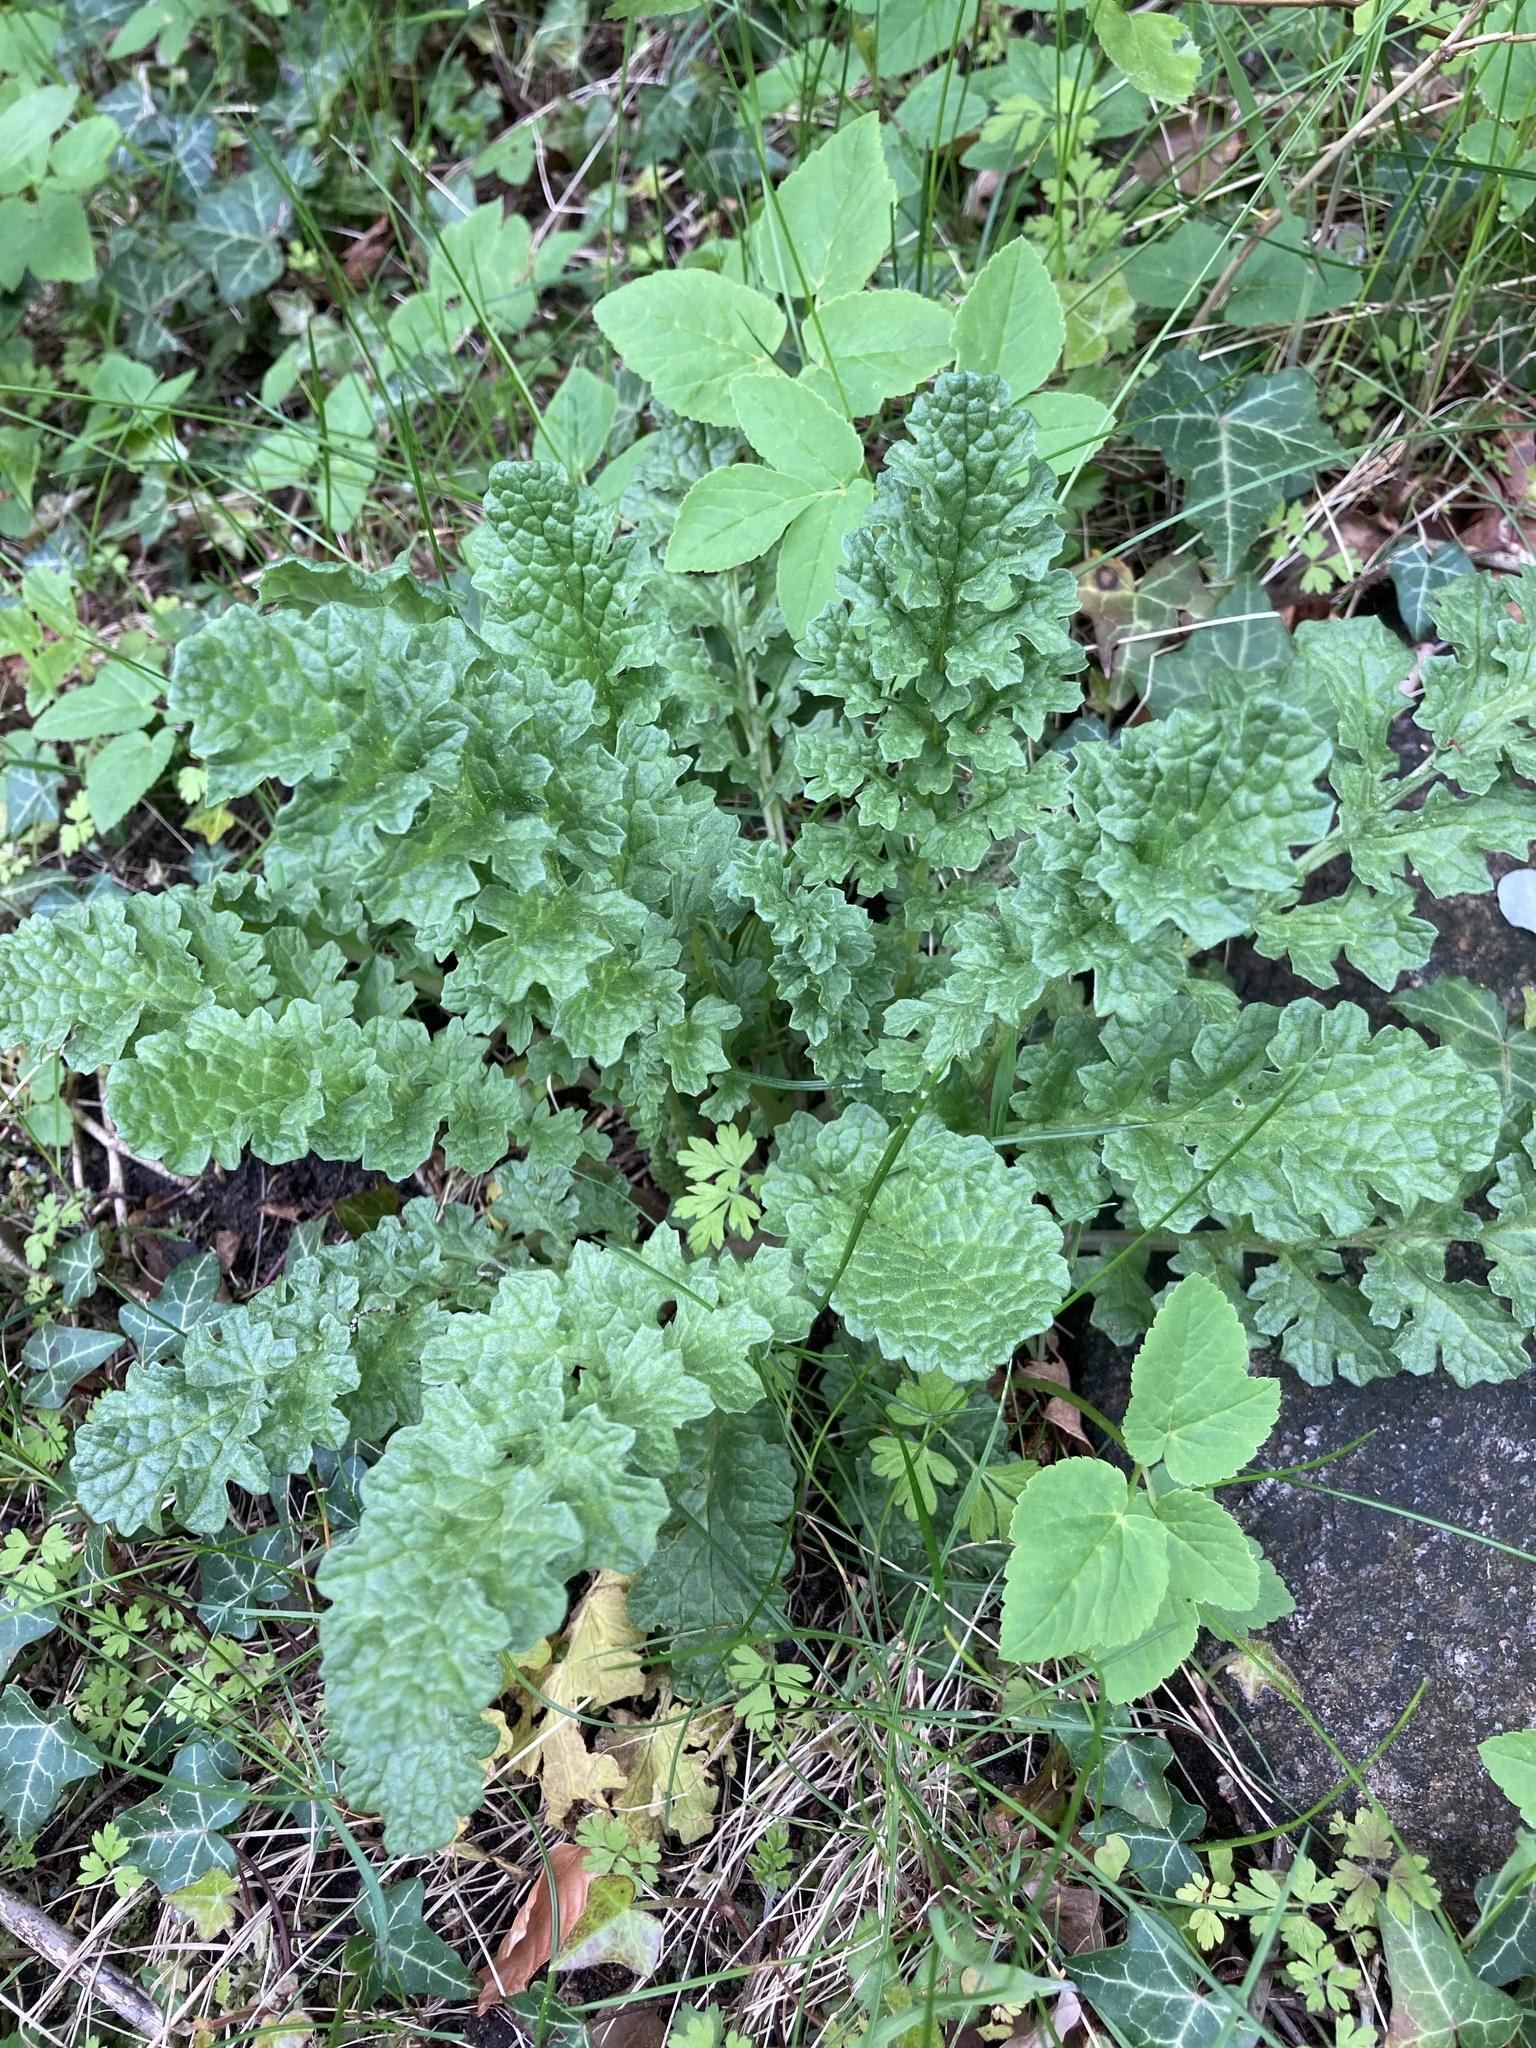Jacobaea vulgaris: (31, 360, 1513, 1880)
